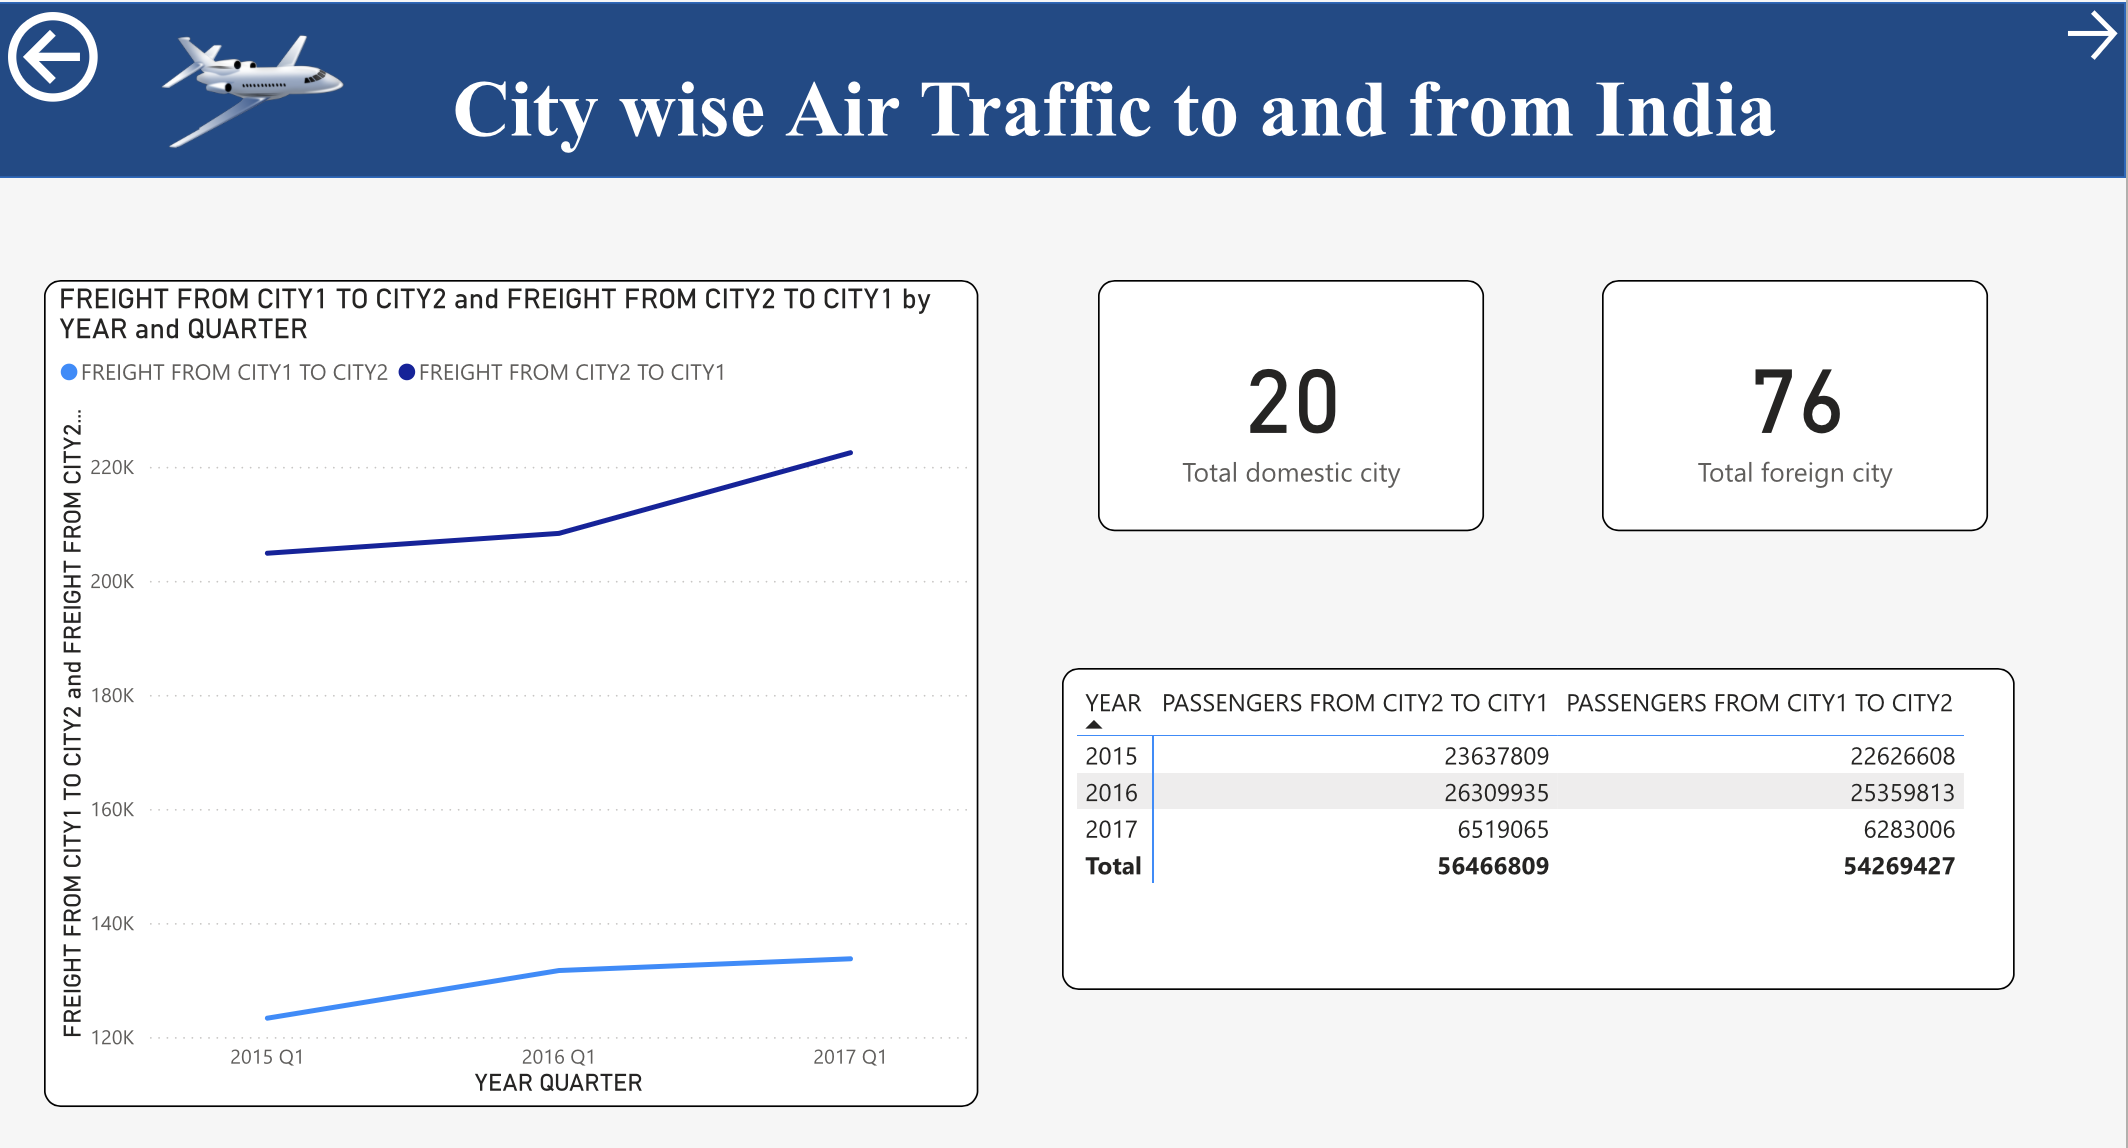

What the dashboard file says about the page in this screenshot:
{"tool":"powerbi","page":{"name":"City wise Air Traffic","canvas":[1280,720],"ordinal":3},"visuals":[{"type":"shape","box":[1.4,10,1278.6,105.8],"z":0},{"type":"lineChart","fields":{"Category":["Citypairwise Quarterly Freight Air Traffic.YEAR","Citypairwise Quarterly Freight Air Traffic.QUARTER"],"Y":["Sum(Citypairwise Quarterly Freight Air Traffic.FREIGHT FROM CITY1 TO CITY2)","Sum(Citypairwise Quarterly Freight Air Traffic.FREIGHT FROM CITY2 TO CITY1)"]},"box":[28.8,177.2,561.7,497.2],"z":1000},{"type":"pivotTable","fields":{"Rows":["Citypairwise Quarterly Passenger Air Traffic.YEAR"],"Values":["Sum(Citypairwise Quarterly Passenger Air Traffic.PASSENGERS FROM CITY2 TO CITY1)","Sum(Citypairwise Quarterly Passenger Air Traffic.PASSENGERS FROM CITY1 TO CITY2)"]},"box":[640,409.3,572.7,193.6],"z":2000},{"type":"card","fields":{"Values":["Citypairwise Quarterly Passenger Air Traffic.Total domestic city"]},"box":[662,177.2,232.1,151.1],"z":3000},{"type":"card","fields":{"Values":["Citypairwise Quarterly Passenger Air Traffic.Total foreign city"]},"box":[965.5,177.2,232.1,151.1],"z":4000},{"type":"actionButton","box":[1.4,9.6,145.6,65.9],"z":5000},{"type":"image","box":[61.8,2.7,185.4,120.9],"z":6000},{"type":"textbox","box":[269.5,41.2,911.5,70.1],"z":7000},{"type":"actionButton","box":[1238.6,9.6,41,39.8],"z":8000}]}

Visuals, with their boxes on the page's 1280x720 design canvas (x1, y1, x2, y2). These are canvas units, not pixel positions in the 2128x1148 screenshot, which may show the page scaled, cropped or inside an application window:
shape: (x1=1, y1=10, x2=1280, y2=116)
lineChart - Citypairwise Quarterly Freight Air Traffic.YEAR x Citypairwise Quarterly Freight Air Traffic.QUARTER: (x1=29, y1=177, x2=590, y2=674)
pivotTable - Citypairwise Quarterly Passenger Air Traffic.YEAR x Sum(Citypairwise Quarterly Passenger Air Traffic.PASSENGERS FROM CITY2 TO CITY1): (x1=640, y1=409, x2=1213, y2=603)
card - Citypairwise Quarterly Passenger Air Traffic.Total domestic city: (x1=662, y1=177, x2=894, y2=328)
card - Citypairwise Quarterly Passenger Air Traffic.Total foreign city: (x1=966, y1=177, x2=1198, y2=328)
actionButton: (x1=1, y1=10, x2=147, y2=76)
image: (x1=62, y1=3, x2=247, y2=124)
textbox: (x1=270, y1=41, x2=1181, y2=111)
actionButton: (x1=1239, y1=10, x2=1280, y2=49)
